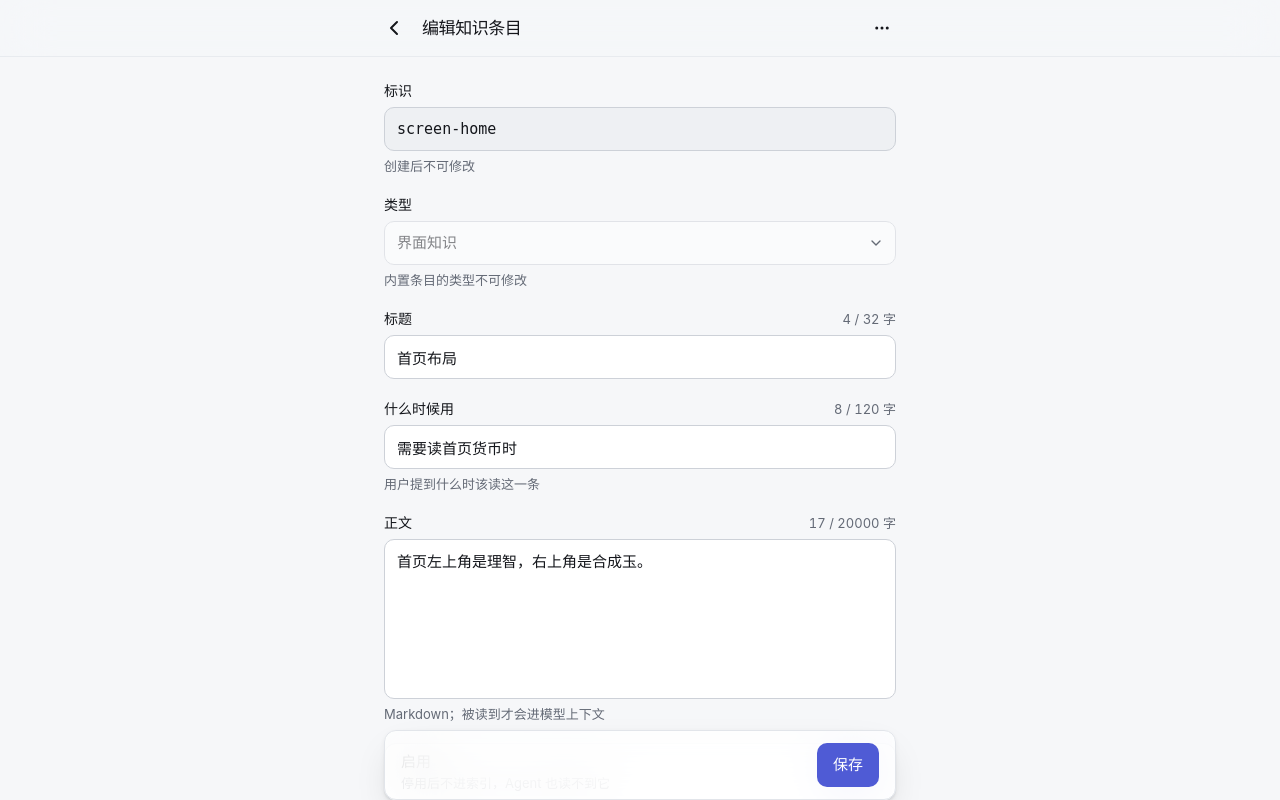
knowledge editor › shows a readable line when the server refuses to change a builtin kind
Replace the text in the field labelled "标题" with "首页布局（改）": [640, 357] box top-left (384, 335), bottom-right (896, 379)
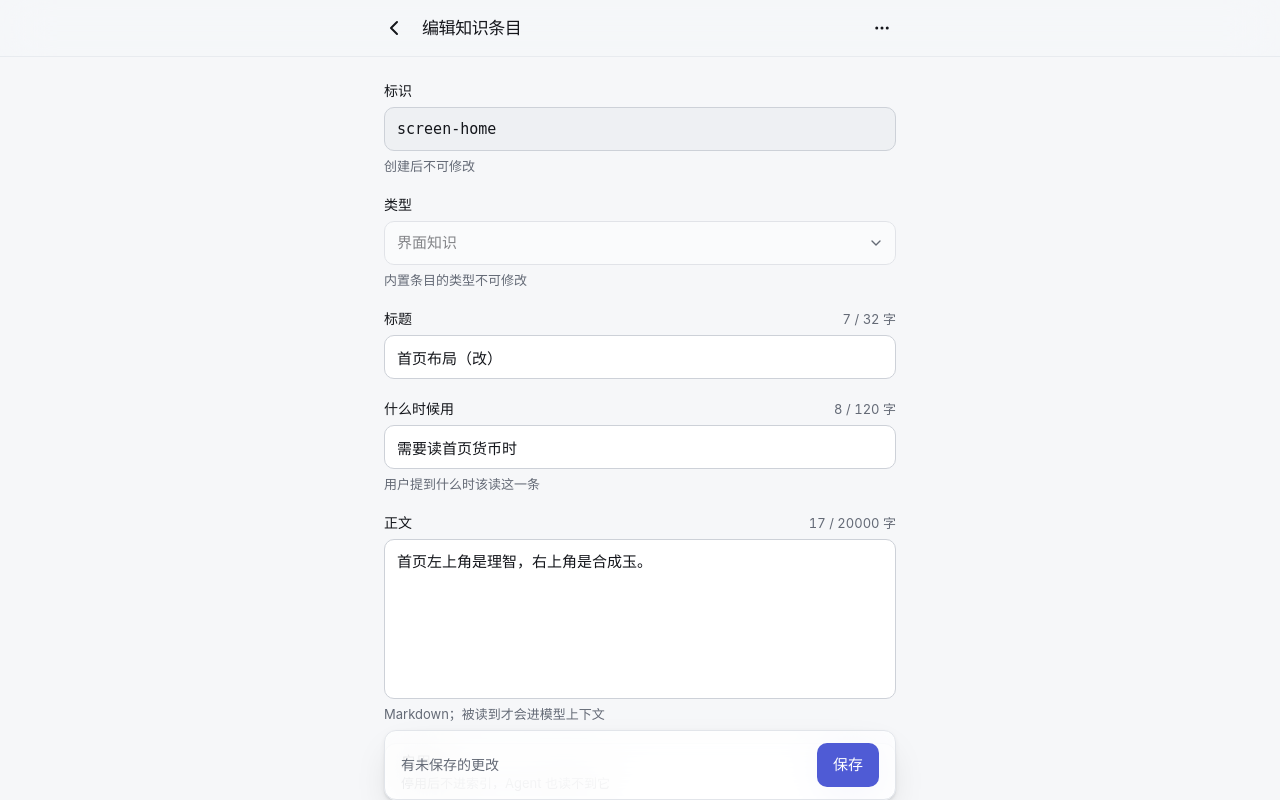
Click the button "保存": [848, 765] box top-left (817, 743), bottom-right (879, 787)
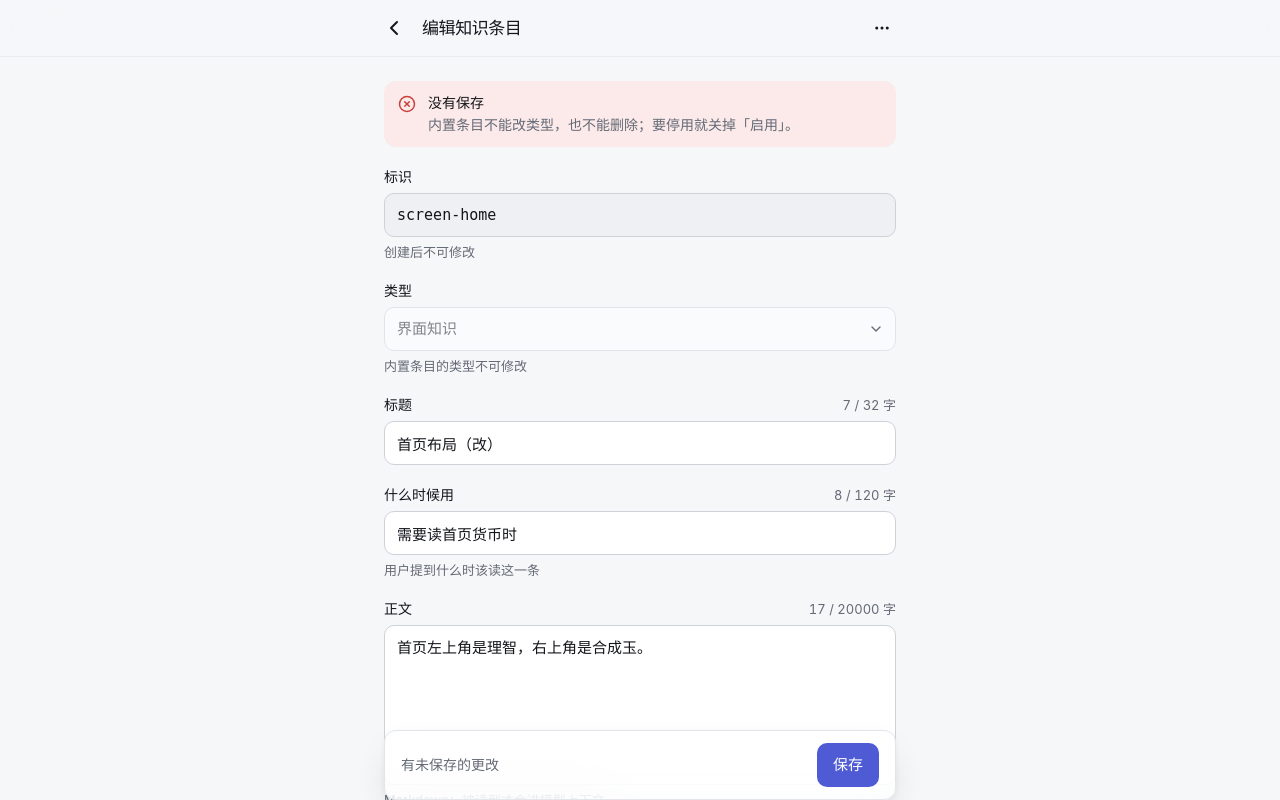
Expected: the message shows "内置条目不能改类型", top-left (428, 116), bottom-right (799, 133)
Expected: the message shows "也不能删除", top-left (428, 116), bottom-right (799, 133)
